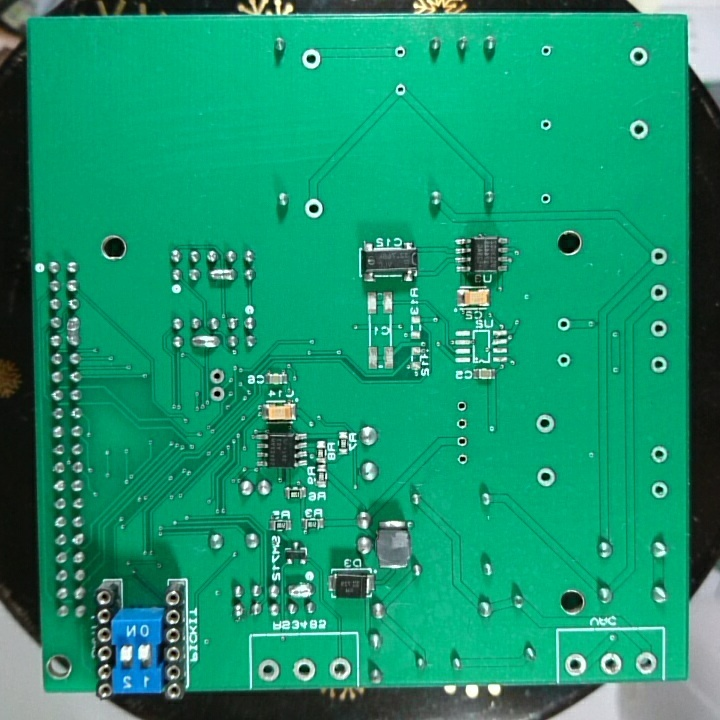F: (290, 656, 317, 683), (626, 43, 652, 70), (626, 116, 651, 143), (599, 649, 622, 678), (533, 412, 559, 437), (302, 196, 326, 223), (634, 649, 657, 677), (564, 652, 588, 678), (535, 464, 558, 491), (328, 656, 351, 683), (299, 47, 324, 71), (256, 658, 280, 683), (647, 243, 670, 269), (648, 478, 671, 503), (648, 442, 671, 465), (649, 355, 671, 377), (647, 318, 669, 340), (648, 282, 669, 304), (207, 365, 228, 386), (205, 385, 227, 405), (555, 349, 573, 371), (555, 314, 574, 334), (537, 115, 555, 135), (538, 43, 555, 62), (393, 80, 409, 99), (454, 415, 470, 434), (391, 43, 408, 60), (454, 432, 470, 450), (539, 189, 554, 207), (454, 451, 469, 469), (454, 397, 469, 414)
P: (190, 332, 222, 352), (285, 580, 317, 599), (64, 314, 82, 347), (208, 266, 238, 283)
